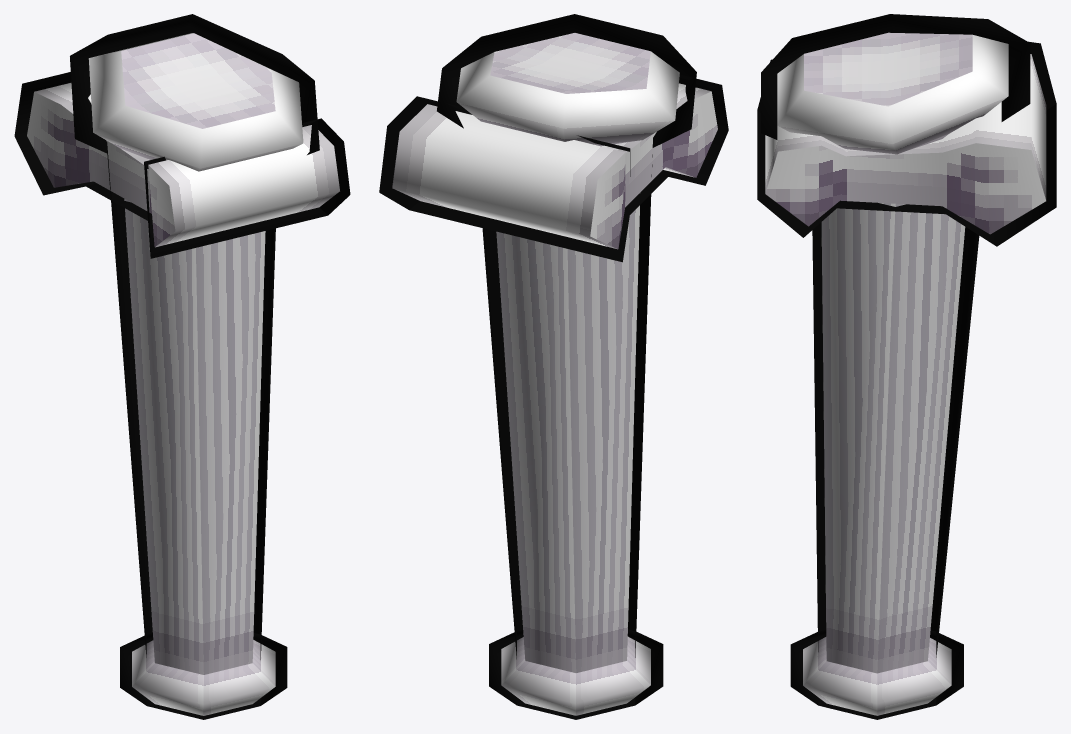
The model's file is Pillar.fbx.
The picture shows the model from 3 angles, left to right: view 1: azimuth 30°, elevation 25°; view 2: azimuth 150°, elevation 25°; view 3: azimuth 270°, elevation 25°; orthographic projection. The views are drawn at different scales.
Parts seen in each view (by area): view 1: polySurface5; view 2: polySurface5; view 3: polySurface5.
Boxes of the visible parts, bbox=[...] form: polySurface5: bbox=[14, 14, 350, 719]; polySurface5: bbox=[379, 14, 728, 719]; polySurface5: bbox=[757, 14, 1056, 719].
Bounding box in the file's own units: 4.9 × 12.28 × 5.12.
